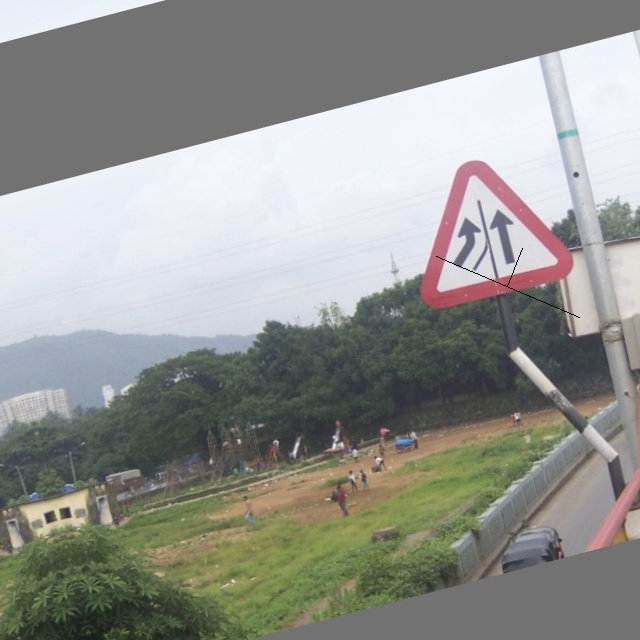Merge_Traffic_Ahead: (396, 139, 581, 319)
